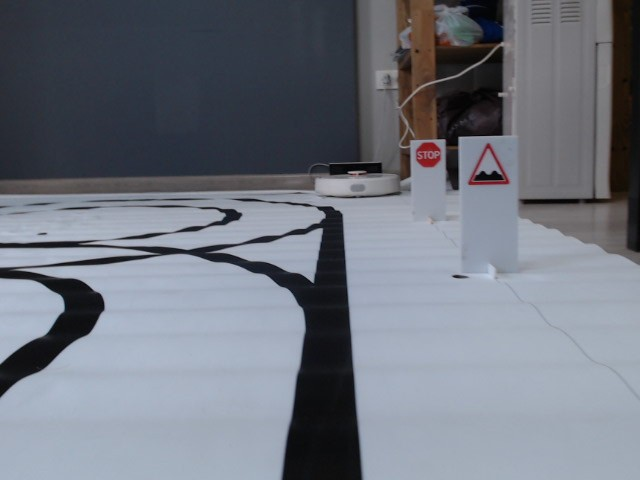Nerov: (465, 141, 511, 186)
Stop: (414, 141, 442, 168)
